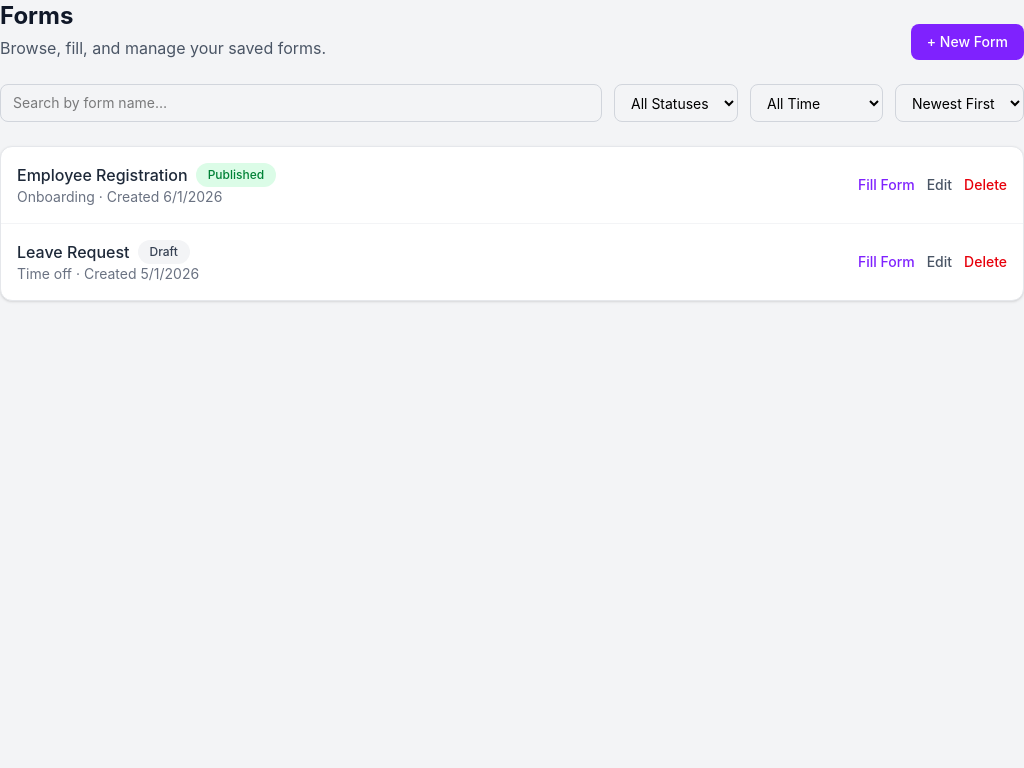
Test: Forms page (Admin) › deletes a form after confirming in the dialog
Click the button "Delete" in the row of "Published": (986, 185) [964,175,1007,195]
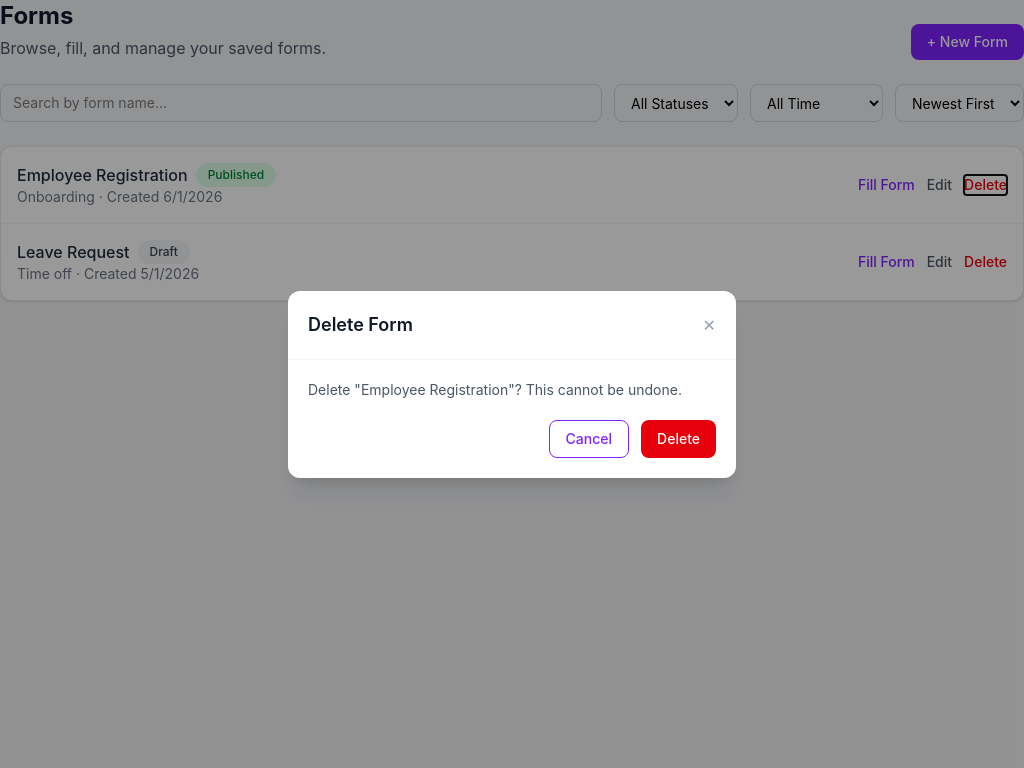
Expected: the text "Delete \"Employee Registration\"? This cannot be undone." is shown, [308,380,716,400]
Click the button "Delete": (679, 438) [641,420,716,458]
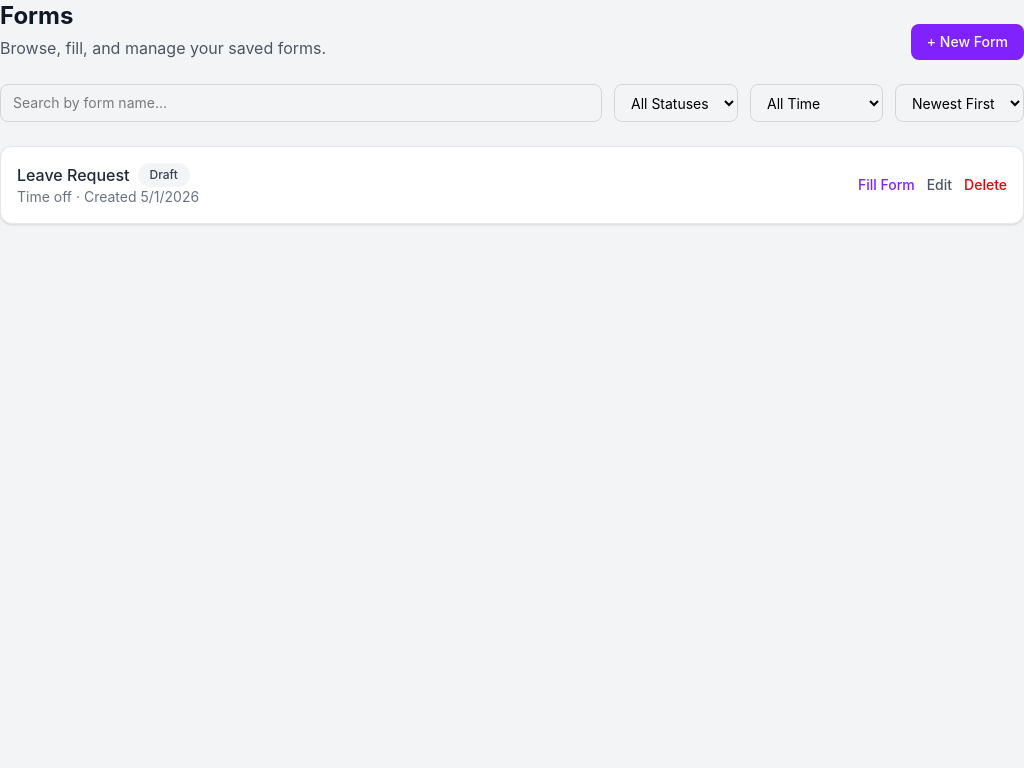
Expected: the text "Leave Request" is shown, [17,163,130,187]
Expected: the text "Employee Registration" is gone
